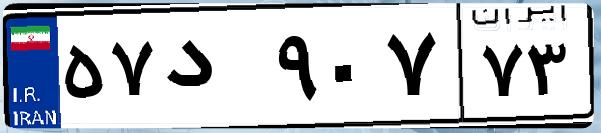0: (330, 28, 385, 110)
3: (525, 38, 570, 115)
5: (57, 26, 110, 100)
7: (385, 28, 445, 110), (475, 38, 525, 113), (110, 28, 158, 98)
9: (270, 28, 330, 110)
د: (158, 20, 270, 120)
